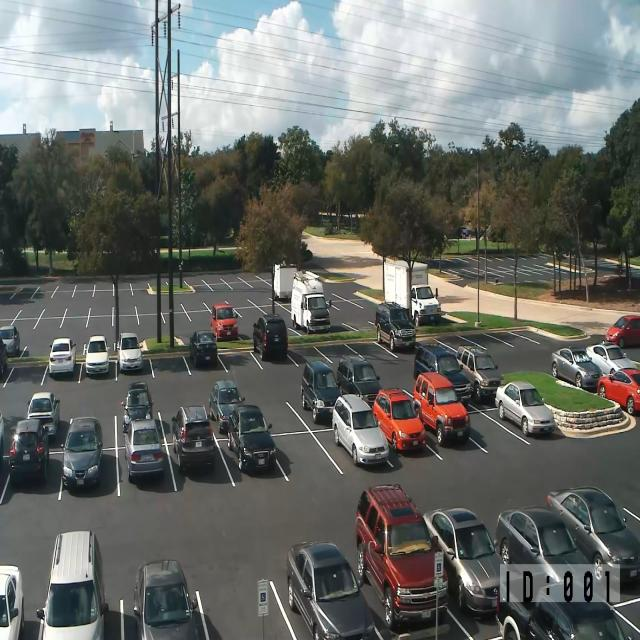car: (356, 483, 448, 630), (494, 506, 606, 605), (546, 485, 640, 583), (286, 540, 375, 640), (423, 507, 503, 616), (496, 580, 639, 640), (36, 530, 109, 639), (133, 558, 209, 640), (413, 372, 470, 446), (332, 393, 389, 466), (527, 600, 627, 639), (494, 380, 556, 437), (413, 343, 472, 402), (373, 388, 426, 452), (227, 404, 276, 473), (60, 416, 103, 489), (172, 405, 216, 473), (456, 344, 504, 402), (123, 417, 165, 482), (300, 360, 342, 424), (8, 418, 49, 483), (336, 354, 383, 408), (551, 346, 603, 391), (596, 368, 640, 416), (375, 301, 416, 351), (208, 379, 245, 432), (0, 564, 24, 640), (586, 342, 639, 376), (121, 381, 154, 434), (252, 314, 288, 361), (26, 391, 60, 439), (410, 283, 441, 327), (610, 596, 640, 640), (605, 313, 640, 348), (83, 335, 110, 376), (210, 302, 238, 341), (116, 332, 143, 372), (189, 330, 217, 368), (49, 337, 76, 376), (0, 324, 20, 356), (0, 338, 7, 377), (0, 409, 4, 467), (300, 239, 307, 252)
